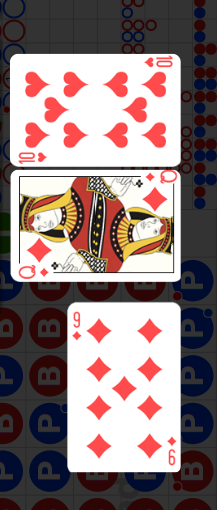10H: (18, 150, 49, 164)
9D: (70, 310, 83, 342), (166, 435, 177, 466)
QD: (134, 182, 181, 226), (14, 249, 60, 293)
